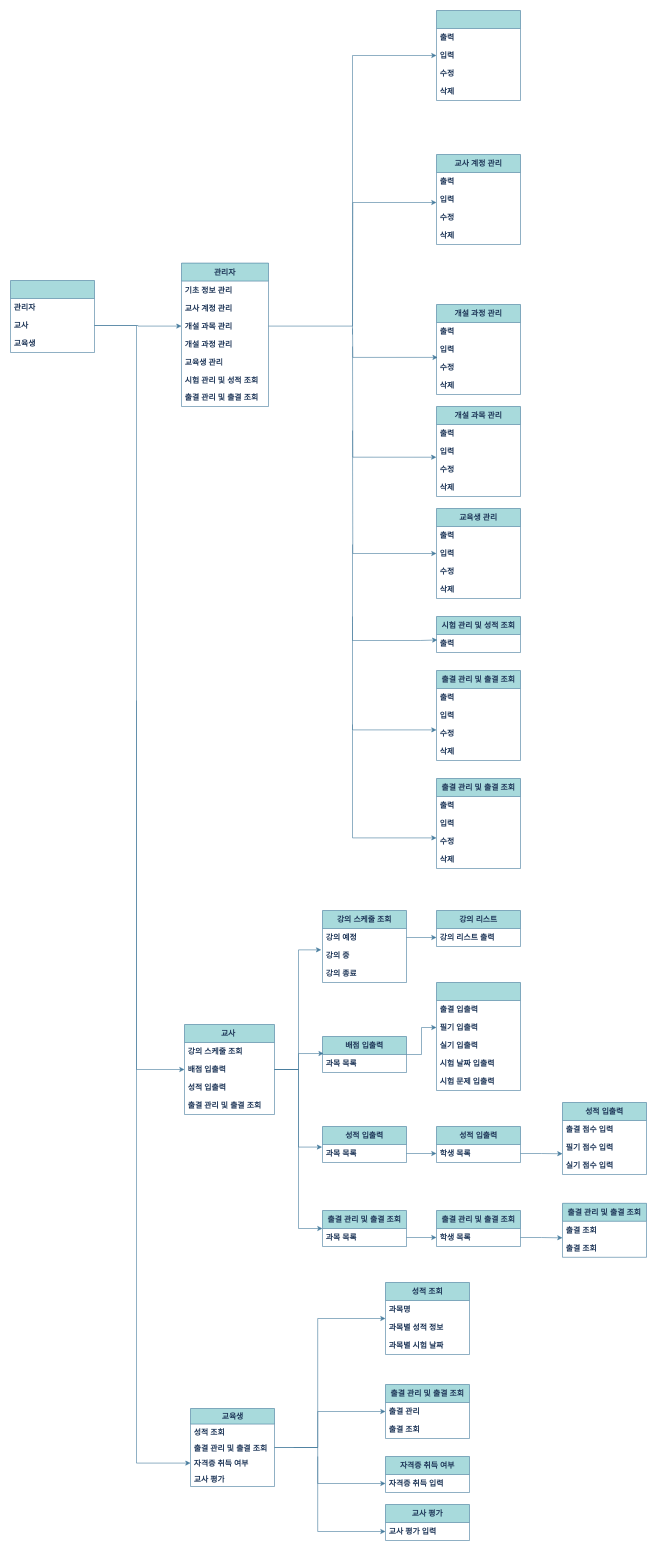
Some shapes in this 657 by 1551 pixel diagram are drawn without their labels. The box of each missing label's shape, as (x1, y1, x2, y2) in pixels:
기초정보 관리: (436, 10, 520, 100)
로그인: (10, 280, 94, 352)
배점 등력: (436, 982, 520, 1090)
